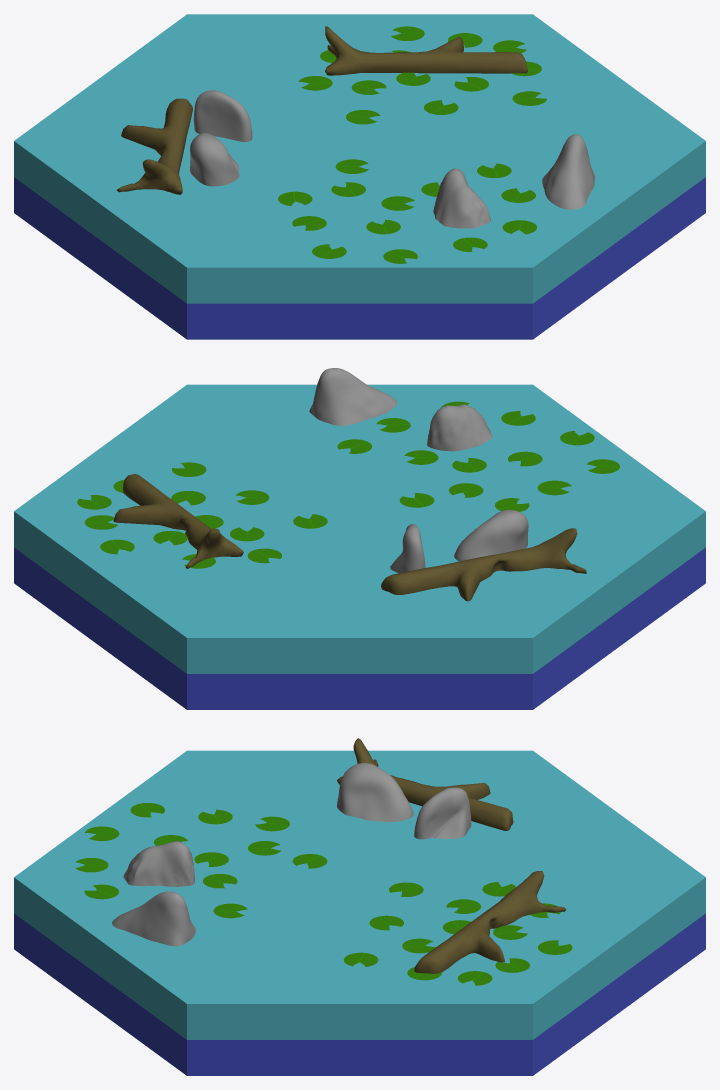
Rendered from Tuile_Eau_N1.fbx.
The picture shows the model from 3 angles, top to bottom: view 1: azimuth 30°, elevation 25°; view 2: azimuth 150°, elevation 25°; view 3: azimuth 270°, elevation 25°; orthographic projection.
Parts seen in each view (by area): view 1: Niv4, niv1, Niv2, Niv3; view 2: Niv4, niv1, Niv3, Niv2; view 3: Niv4, niv1, Niv2, Niv3.
Boxes of the visible parts, x1=… form: Niv4: x1=14, y1=14, x2=705, y2=339; niv1: x1=278, y1=134, x2=595, y2=263; Niv2: x1=298, y1=26, x2=546, y2=124; Niv3: x1=117, y1=90, x2=252, y2=194; Niv4: x1=14, y1=384, x2=705, y2=709; niv1: x1=309, y1=368, x2=619, y2=511; Niv3: x1=381, y1=510, x2=586, y2=601; Niv2: x1=77, y1=462, x2=327, y2=568; Niv4: x1=14, y1=750, x2=705, y2=1075; niv1: x1=75, y1=803, x2=327, y2=946; Niv2: x1=343, y1=871, x2=572, y2=985; Niv3: x1=337, y1=738, x2=513, y2=839.
Bounding box in the file's own units: 107 × 22.9 × 124.
